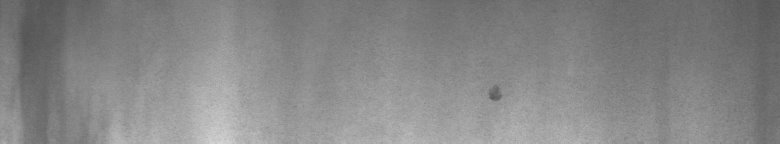fi: (485, 84, 504, 111)
